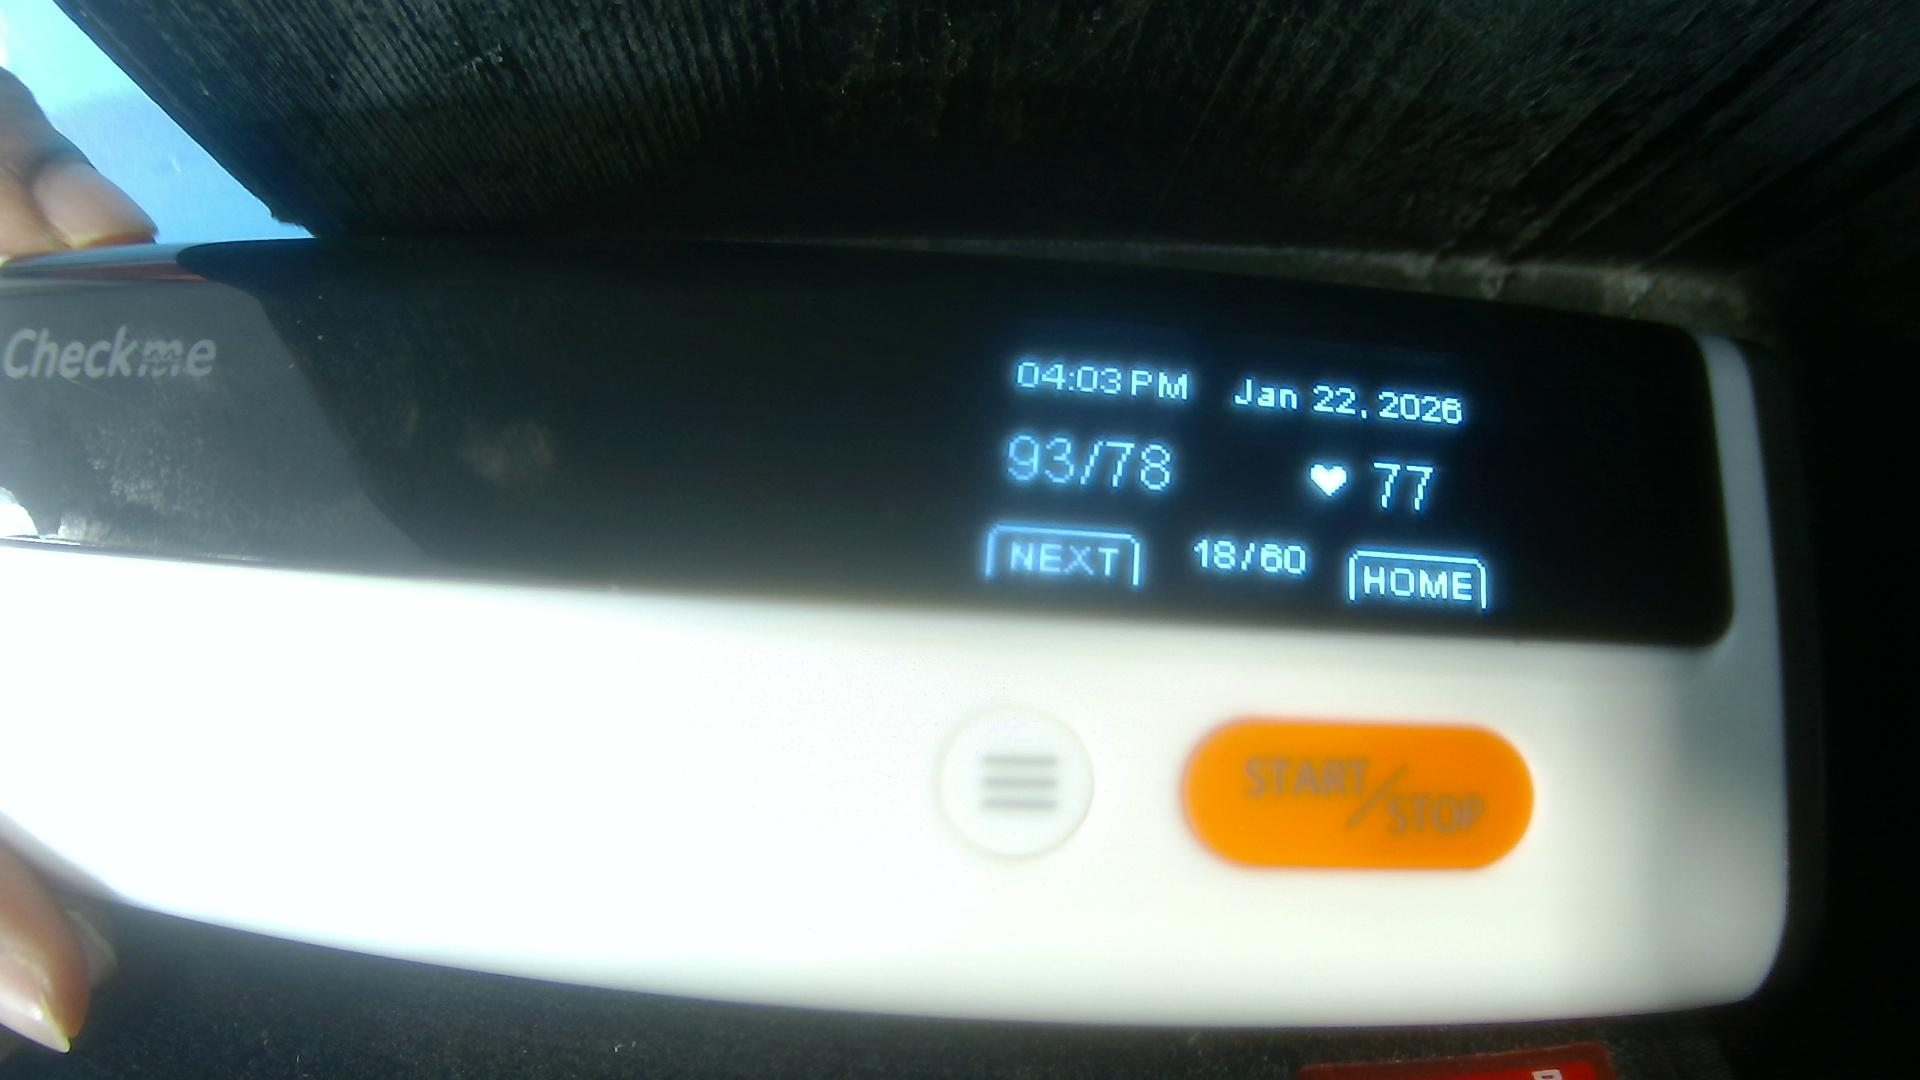DISPLAY: (24, 256, 1720, 642)
